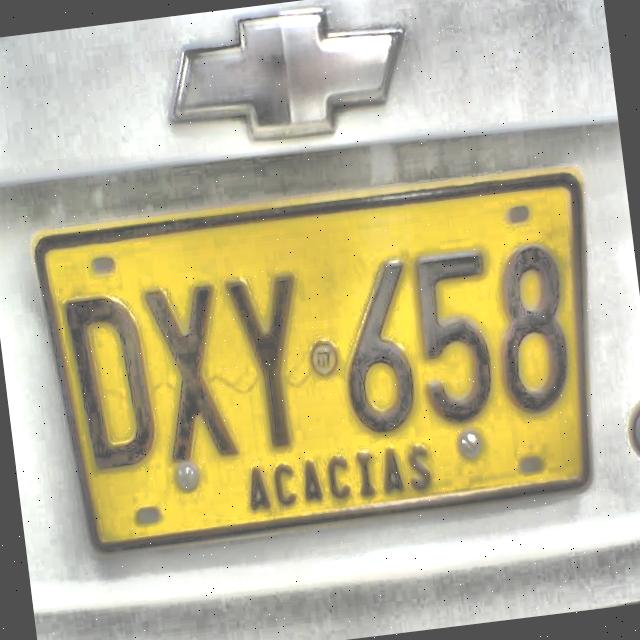5: (406, 242, 506, 437)
6: (330, 256, 430, 438)
8: (482, 233, 579, 421)
D: (56, 286, 169, 486)
X: (140, 276, 242, 468)
Y: (220, 268, 318, 458)
